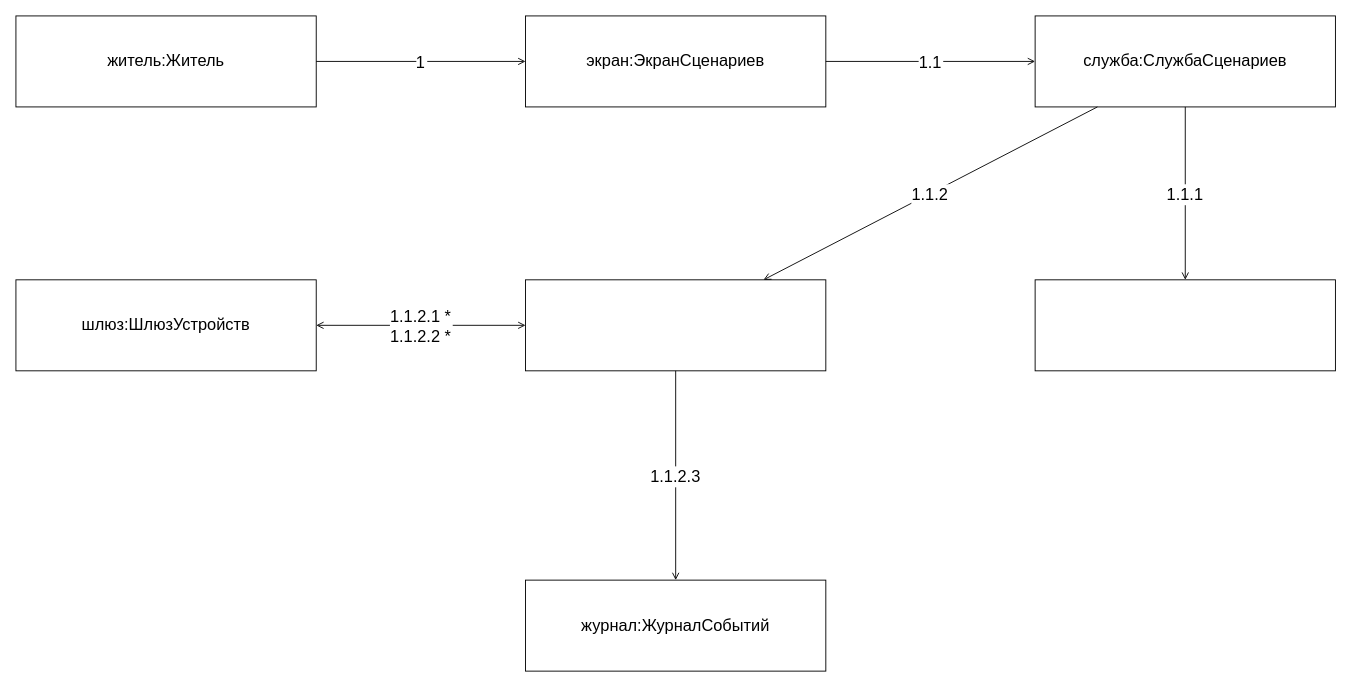
This 1351x687 diagram has some shape labels left out. The centre of each missing label's shape, as x and y in pixels:
"исполнитель:Исполнитель" goes at (675,325).
"каталог:КаталогСценариев" goes at (1184,325).
